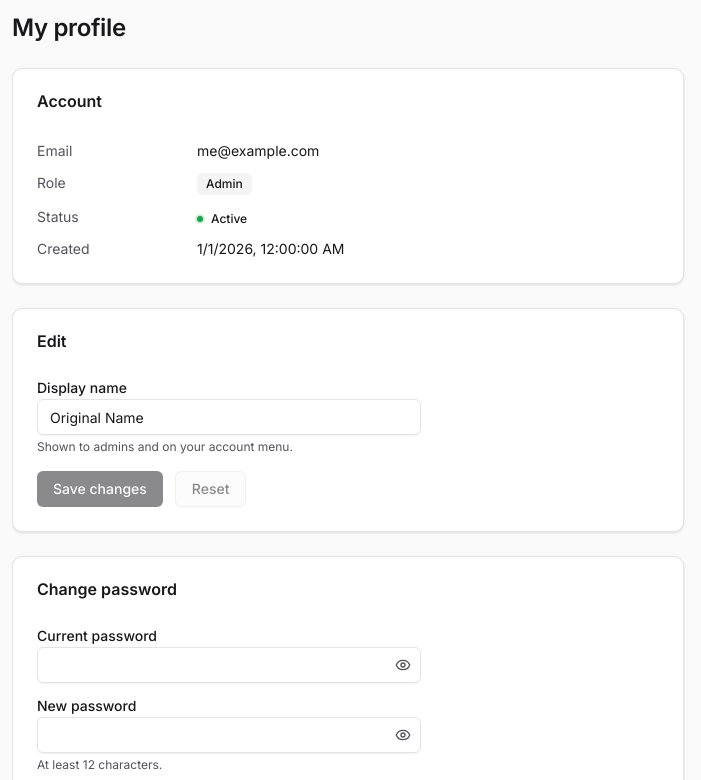
it: ProfileEditor › reset restores the original display name and disables the buttons again
The width and height of the screenshot is (701, 780).
Replace the text in the field labelled "Display name" with "New Name". click: x=229, y=417
box: 37,399 -> 421,435
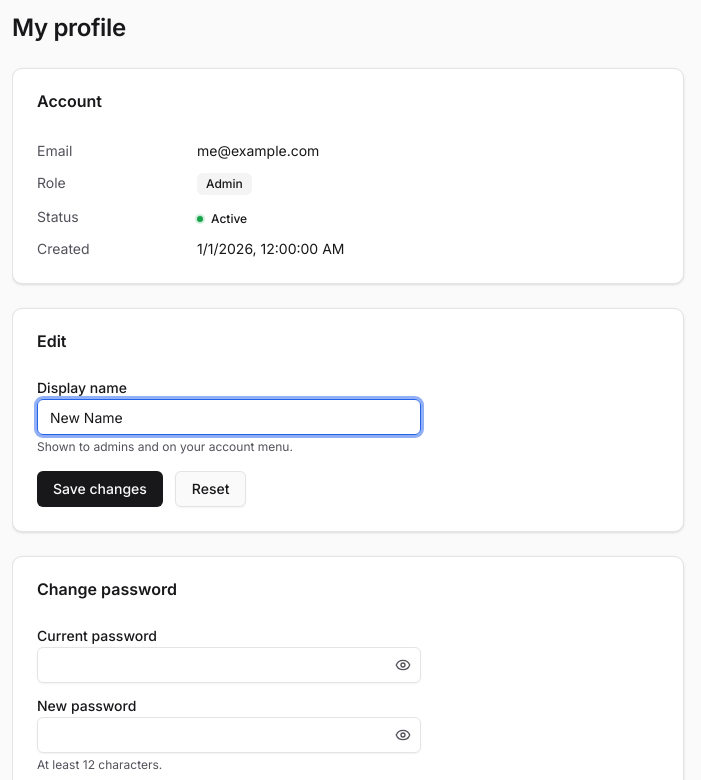
Click the button "Reset". click: x=211, y=489
box: 175,471 -> 246,507
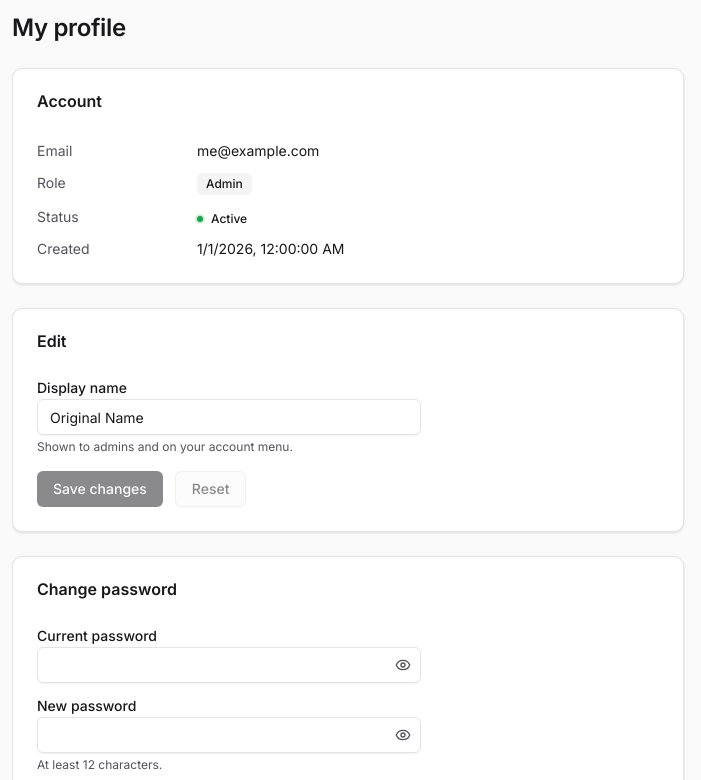
Check: the field labelled "Display name" holds "Original Name", box 37,399 -> 421,435
Check: the button "Save changes" is disabled, box 37,471 -> 163,507
